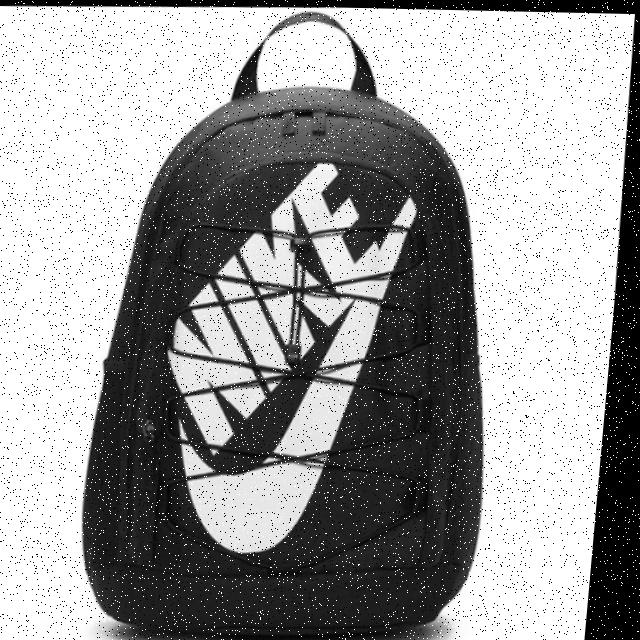backpack: (57, 11, 535, 634)
